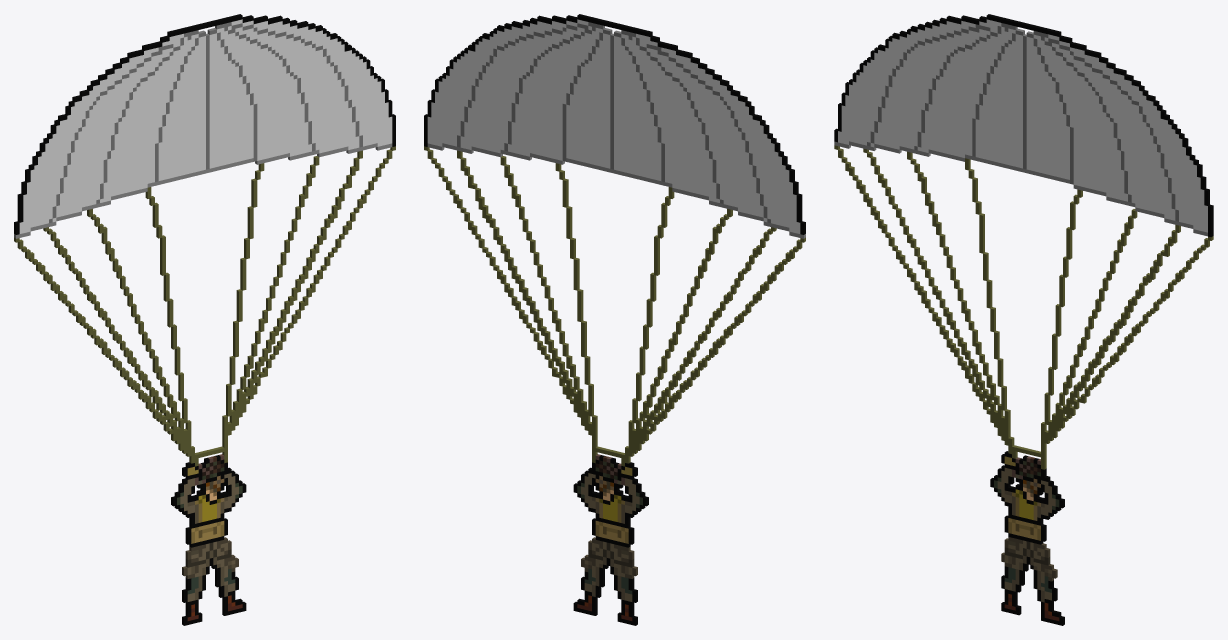
The model's file is skydiver.glb.
3 views of the same model, side by side, from view 1: azimuth 30°, elevation 25°; view 2: azimuth 150°, elevation 25°; view 3: azimuth 330°, elevation 25° (orthographic).
Parts seen in each view (by area): view 1: Object_2; view 2: Object_2; view 3: Object_2.
Part boxes in pixels (x1,y1,x2,y2): Object_2: (14,14,395,625); Object_2: (424,14,805,625); Object_2: (834,14,1213,625).
Size of the model in its own units: 10.4 by 15.6 by 0.1.
1 material, 1 textured.
